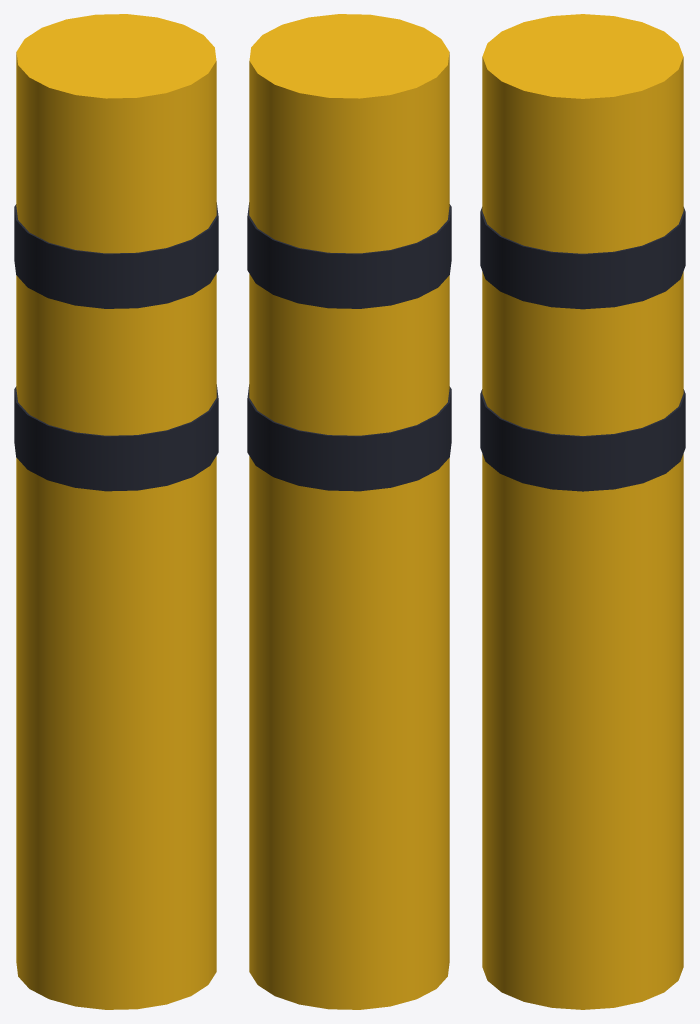
Rendered from ind-013.glb.
3 views of the same model, side by side, from view 1: azimuth 30°, elevation 25°; view 2: azimuth 150°, elevation 25°; view 3: azimuth 270°, elevation 25° (orthographic).
Parts seen in each view (by area): view 1: safety_yellow, plastic_dark; view 2: safety_yellow, plastic_dark; view 3: safety_yellow, plastic_dark.
Boxes of the visible parts, x1,y1,x2,y2 form: safety_yellow: (16,14,216,1009); plastic_dark: (14,202,218,491); safety_yellow: (249,14,449,1009); plastic_dark: (247,202,451,491); safety_yellow: (482,14,683,1009); plastic_dark: (480,207,685,491).
Size of the model in its own units: 0.204 by 1 by 0.204.
